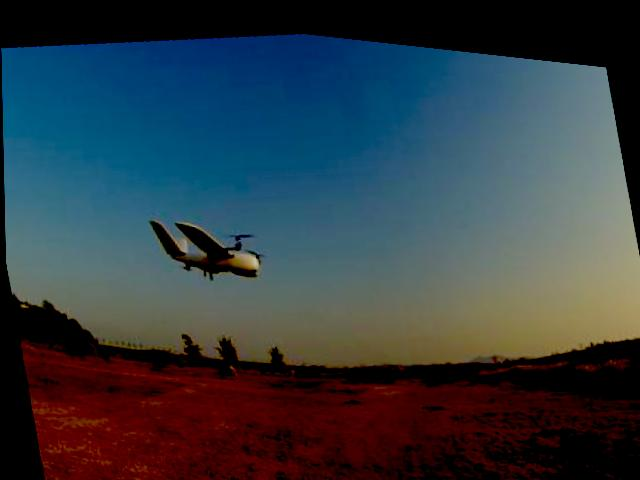uav: (137, 185, 273, 298)
